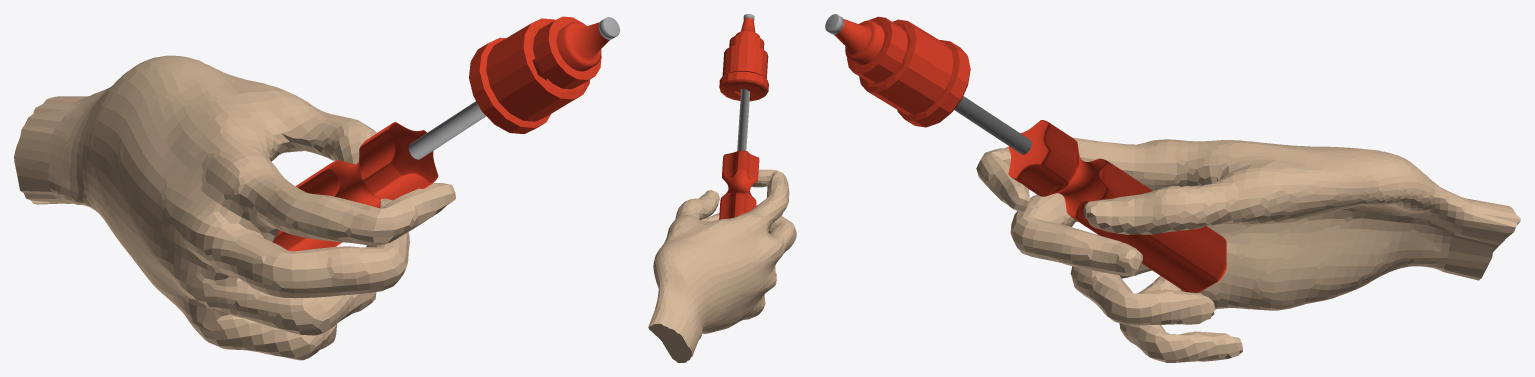
File: SC2-hand-with-dummy-screwdriver-fuse-D50A.fbx
3 renders of one model, left to right at view 1: azimuth 30°, elevation 25°; view 2: azimuth 150°, elevation 25°; view 3: azimuth 270°, elevation 25°, orthographic. The views are drawn at different scales.
Parts seen in each view (by area): view 1: Object03_Object03.001, 01-fuse-plugs-TL.002_Cylinder.005, screwdriver.001_hex_head_screwdriver_body.001; view 2: Object03_Object03.001, 01-fuse-plugs-TL.002_Cylinder.005, screwdriver.001_hex_head_screwdriver_body.001; view 3: Object03_Object03.001, screwdriver.001_hex_head_screwdriver_body.001, 01-fuse-plugs-TL.002_Cylinder.005.
Boxes of the visible parts, x1,y1,x2,y2 form: Object03_Object03.001: [14, 55, 455, 360]; 01-fuse-plugs-TL.002_Cylinder.005: [469, 16, 619, 133]; screwdriver.001_hex_head_screwdriver_body.001: [273, 101, 485, 251]; Object03_Object03.001: [648, 169, 796, 362]; 01-fuse-plugs-TL.002_Cylinder.005: [719, 14, 768, 101]; screwdriver.001_hex_head_screwdriver_body.001: [719, 88, 759, 219]; Object03_Object03.001: [976, 137, 1520, 362]; screwdriver.001_hex_head_screwdriver_body.001: [954, 96, 1226, 292]; 01-fuse-plugs-TL.002_Cylinder.005: [825, 14, 970, 127].
Size of the model in its own units: 355 by 585 by 926.
